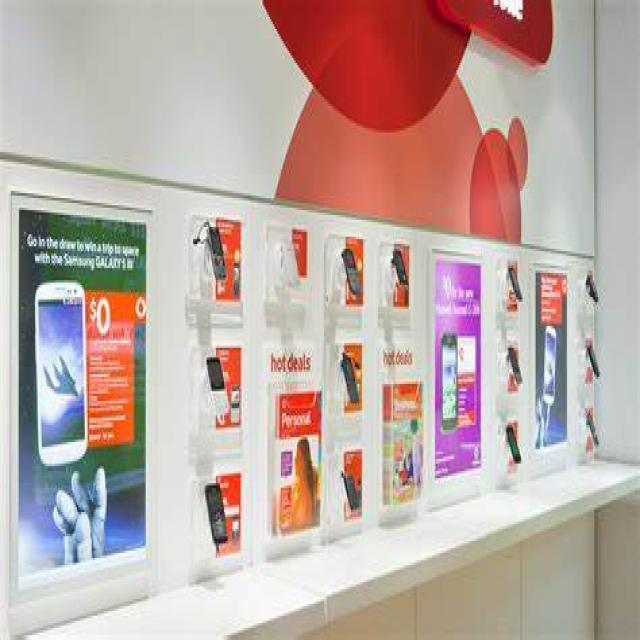mobile-phone: (32, 275, 93, 465), (202, 213, 232, 295), (202, 476, 231, 554), (439, 329, 461, 430), (203, 357, 231, 422), (339, 350, 364, 415), (339, 240, 359, 309), (389, 249, 412, 294), (508, 344, 525, 395), (342, 466, 360, 513), (546, 330, 556, 405), (584, 339, 601, 379), (506, 420, 520, 465), (509, 264, 524, 302), (586, 409, 600, 446), (583, 276, 600, 305)
